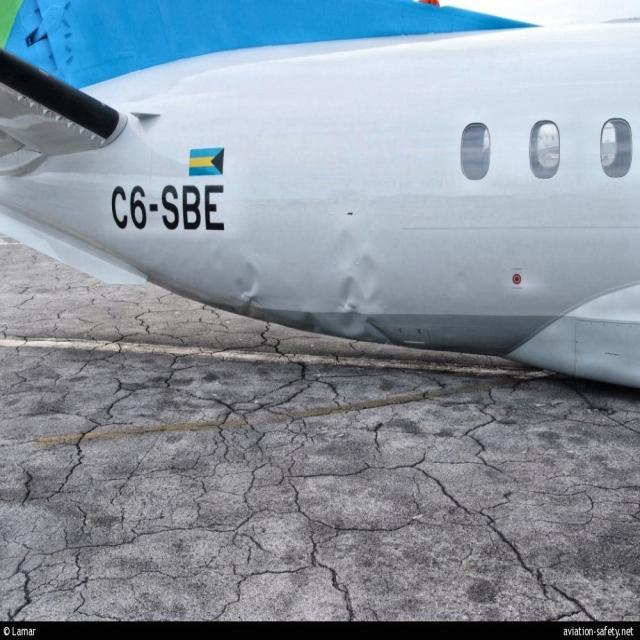dent: (303, 227, 390, 350), (228, 264, 271, 322)
